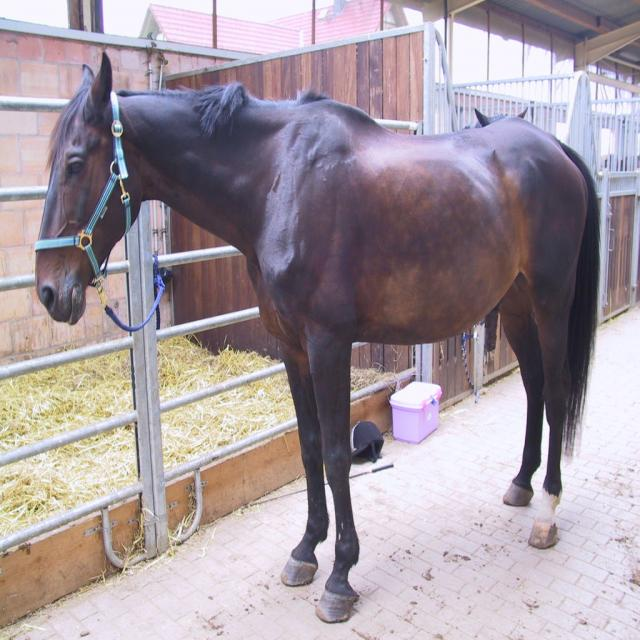Horse: (34, 51, 601, 624)
